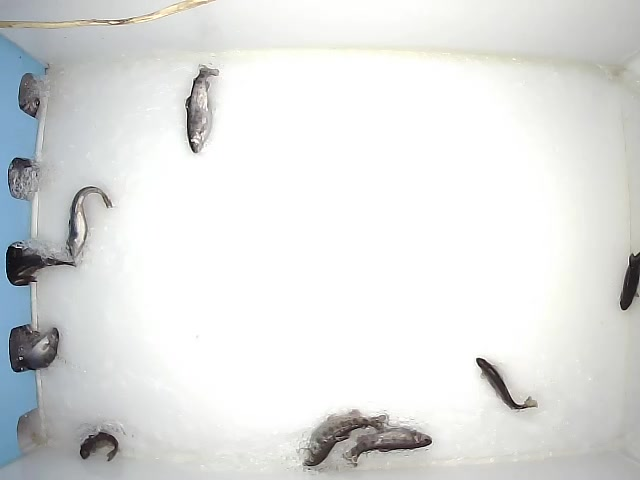fish: (300, 406, 388, 469), (340, 424, 434, 468), (64, 184, 115, 262), (472, 357, 538, 411), (182, 62, 220, 154), (16, 325, 61, 370), (618, 242, 640, 312), (78, 430, 119, 462)
